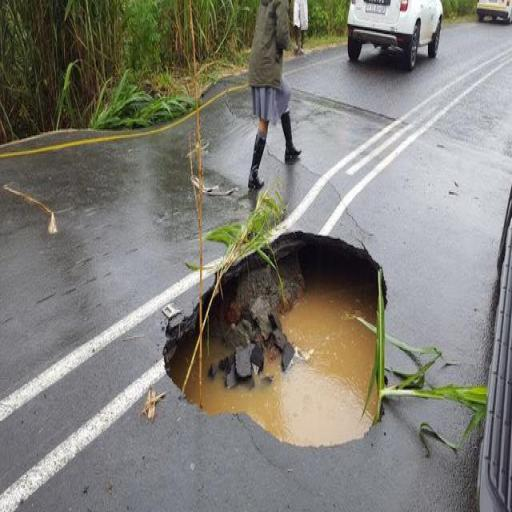Concentric_Crack: (165, 233, 388, 445)
